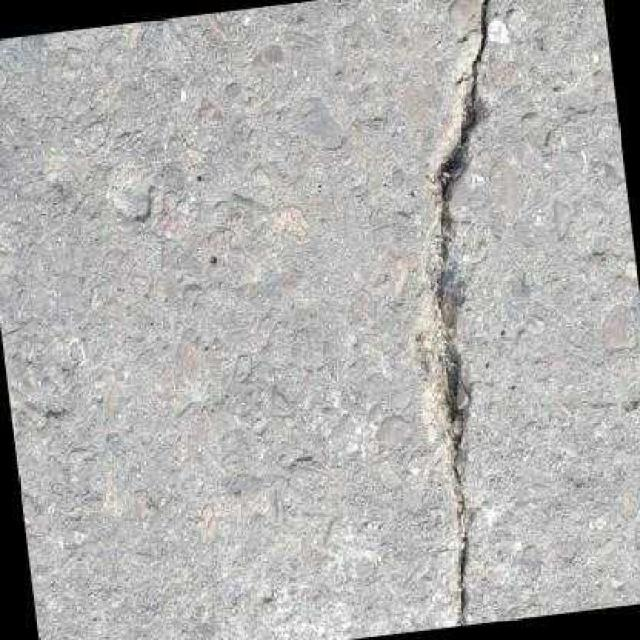D00: (432, 0, 488, 625)
